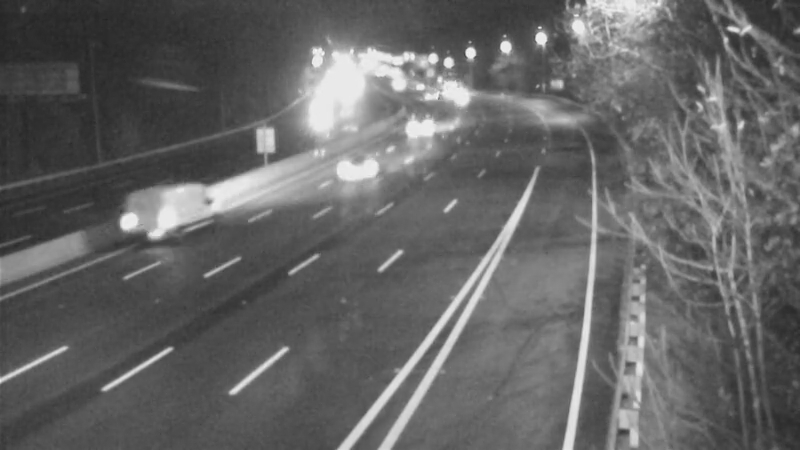vehicle: (329, 127, 409, 207), (108, 198, 188, 278), (400, 95, 450, 145), (294, 91, 344, 141)
